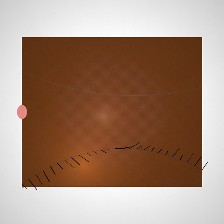hemorrhage_spot: (40, 81, 126, 150)
